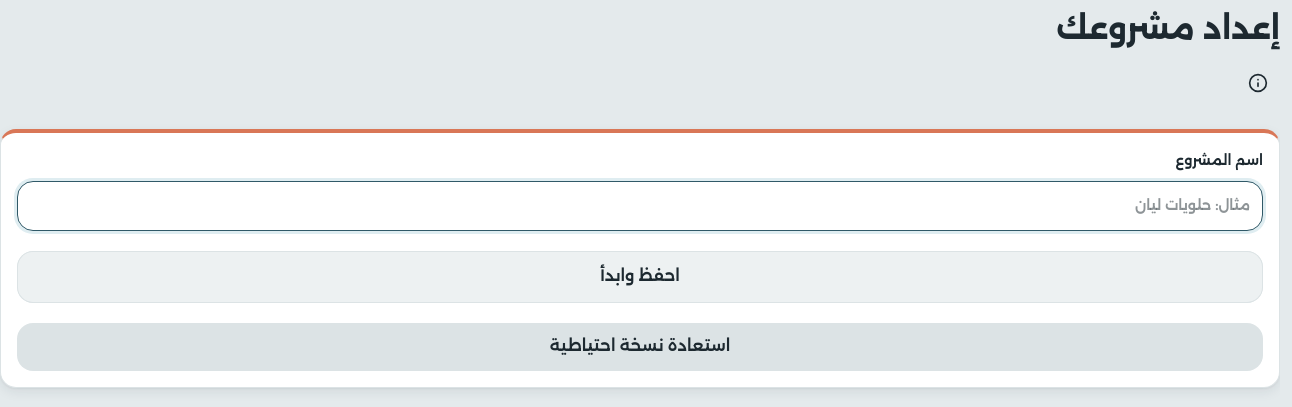
UNIT-001 save failure — keep the name, honest recovery, verify before retry (R07) › a read failure at submit time enters recovery without any blind write (R07)
In the field labelled "اسم المشروع": [640, 206] box x1=17 y1=181 x2=1263 y2=230, type "مشغل القراءة"
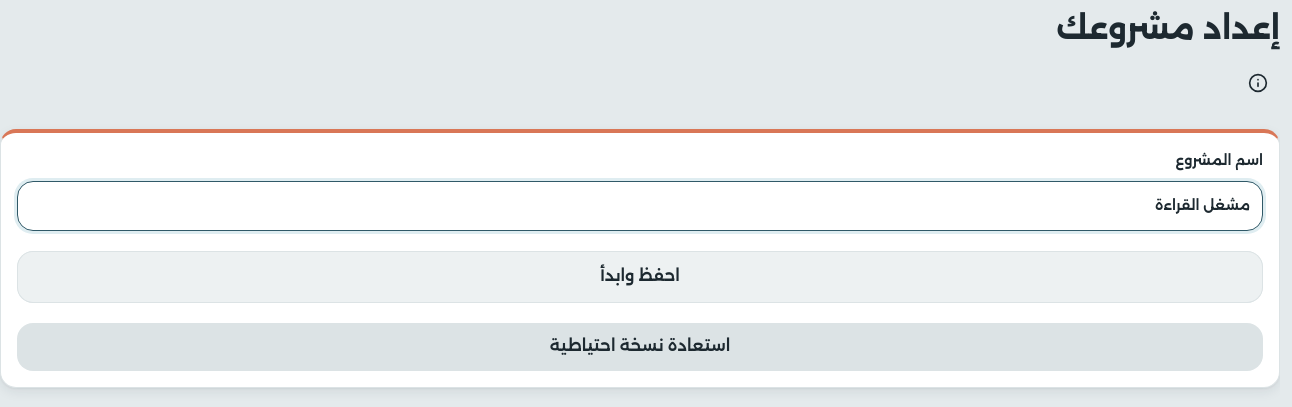
Click the button "احفظ وابدأ": [640, 276] box x1=17 y1=250 x2=1263 y2=302
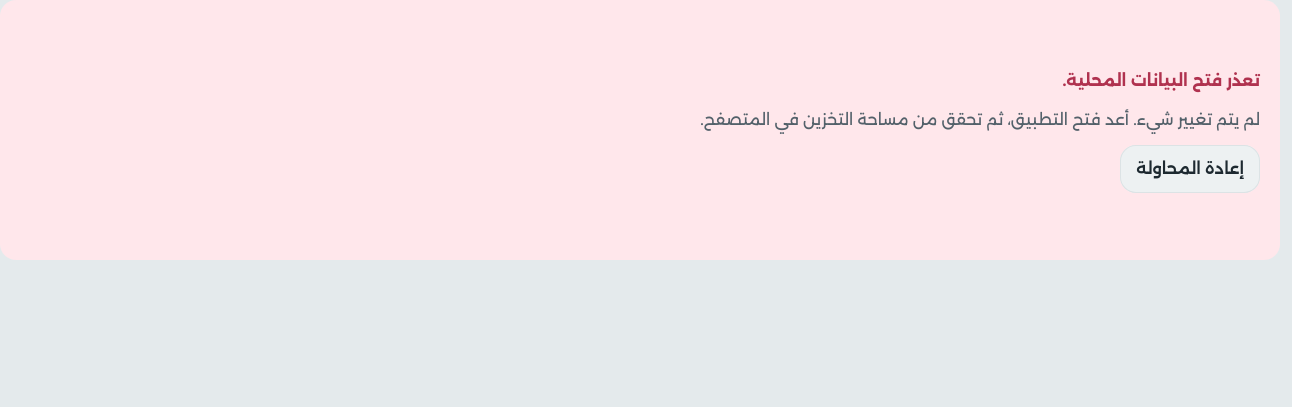
Result: the message with test id "setup-storage-recovery" is shown
